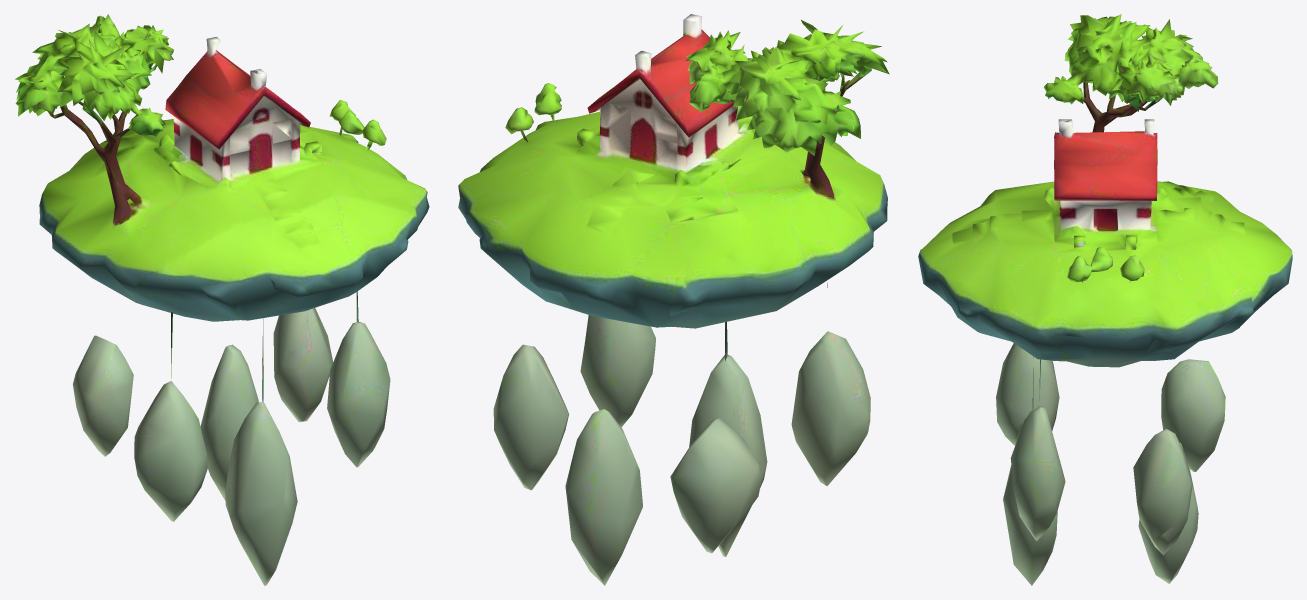
The model's file is floating_island.glb.
The picture shows the model from 3 angles, left to right: view 1: azimuth 30°, elevation 25°; view 2: azimuth 150°, elevation 25°; view 3: azimuth 270°, elevation 25°; orthographic projection. The views are drawn at different scales.
Bounding box in the file's own units: 1.28 × 1.89 × 1.25.
1 material, 1 textured.
